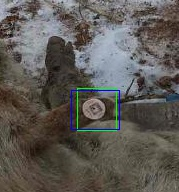text: (77, 88, 116, 130)
